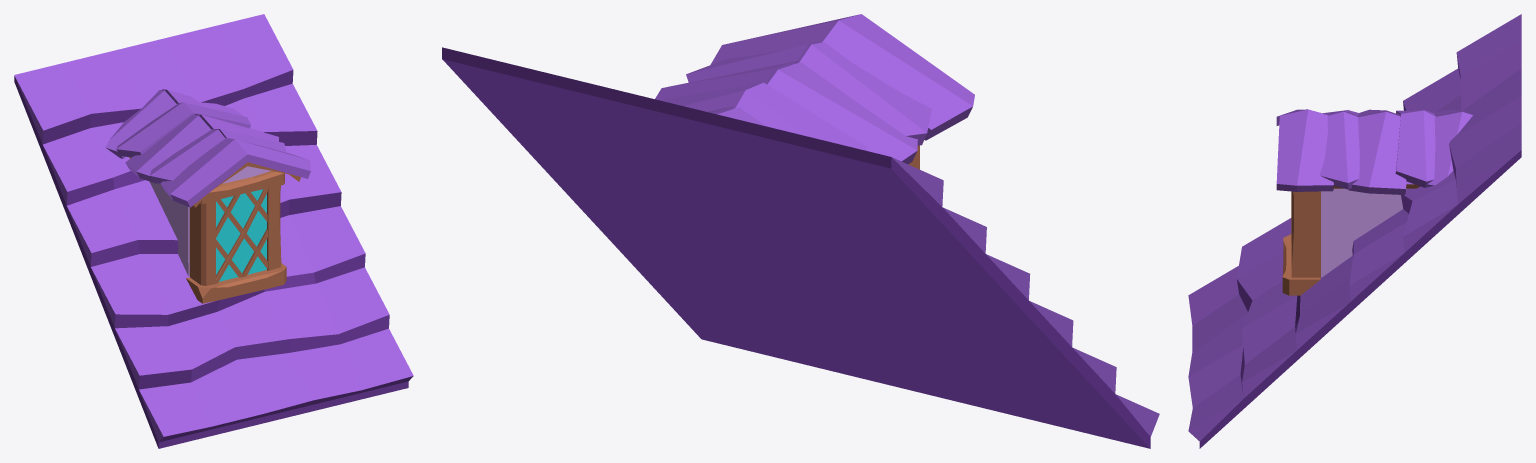
The model's file is Roof 02 Window 01.fbx.
The picture shows the model from 3 angles, left to right: view 1: azimuth 30°, elevation 25°; view 2: azimuth 150°, elevation 25°; view 3: azimuth 270°, elevation 25°; orthographic projection. The views are drawn at different scales.
Visible parts, largest first — view 1: Roof 02 Window 01; view 2: Roof 02 Window 01; view 3: Roof 02 Window 01.
Boxes of the visible parts, x1=… form: Roof 02 Window 01: x1=14, y1=14, x2=413, y2=448; Roof 02 Window 01: x1=442, y1=14, x2=1159, y2=448; Roof 02 Window 01: x1=1188, y1=14, x2=1521, y2=448.
Size of the model in its own units: 400 by 410 by 414.
